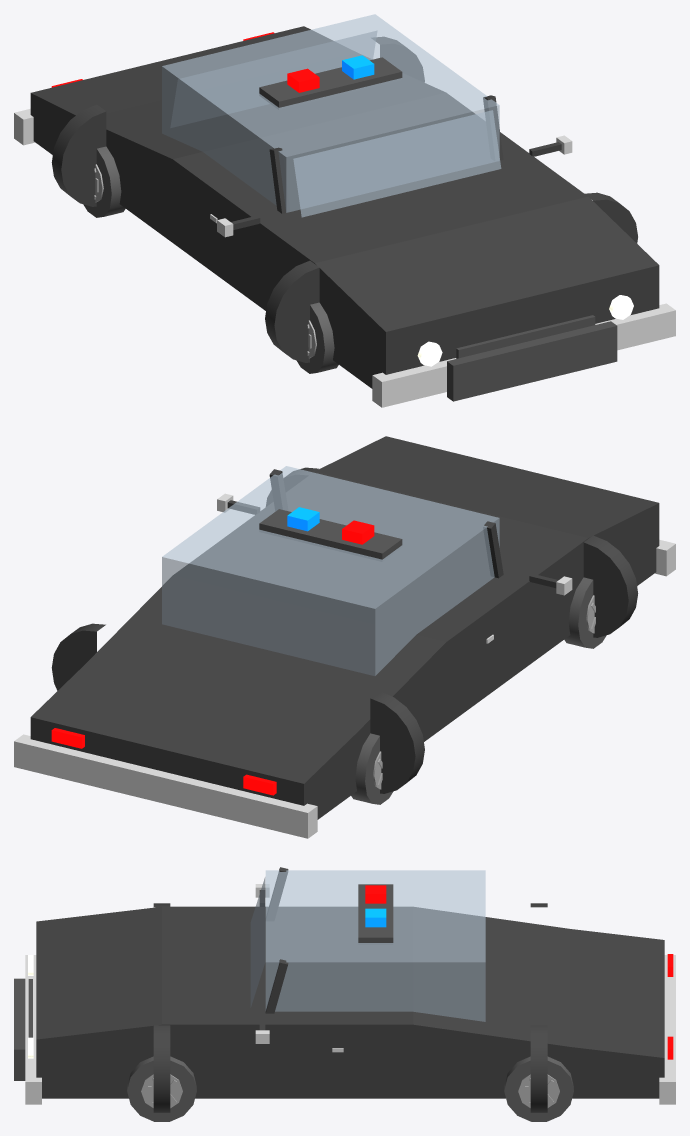
The model's file is police.glb.
3 renders of one model, top to bottom at view 1: azimuth 30°, elevation 25°; view 2: azimuth 150°, elevation 25°; view 3: azimuth 270°, elevation 25°, orthographic. The views are drawn at different scales.
Parts seen in each view (by area): view 1: police, wheel_RL, wheel_FL; view 2: police, wheel_FL, wheel_RL; view 3: police, wheel_RR, wheel_FR.
Part boxes in pixels (bbox=[...]): police: bbox=[14, 14, 675, 407]; wheel_RL: bbox=[83, 146, 125, 217]; wheel_FL: bbox=[296, 302, 338, 373]; police: bbox=[14, 436, 675, 838]; wheel_FL: bbox=[564, 577, 606, 648]; wheel_RL: bbox=[351, 733, 393, 804]; police: bbox=[14, 867, 675, 1112]; wheel_RR: bbox=[504, 1056, 573, 1121]; wheel_FR: bbox=[127, 1056, 196, 1121].
Size of the model in its own units: 2.66 by 1.24 by 4.74.
